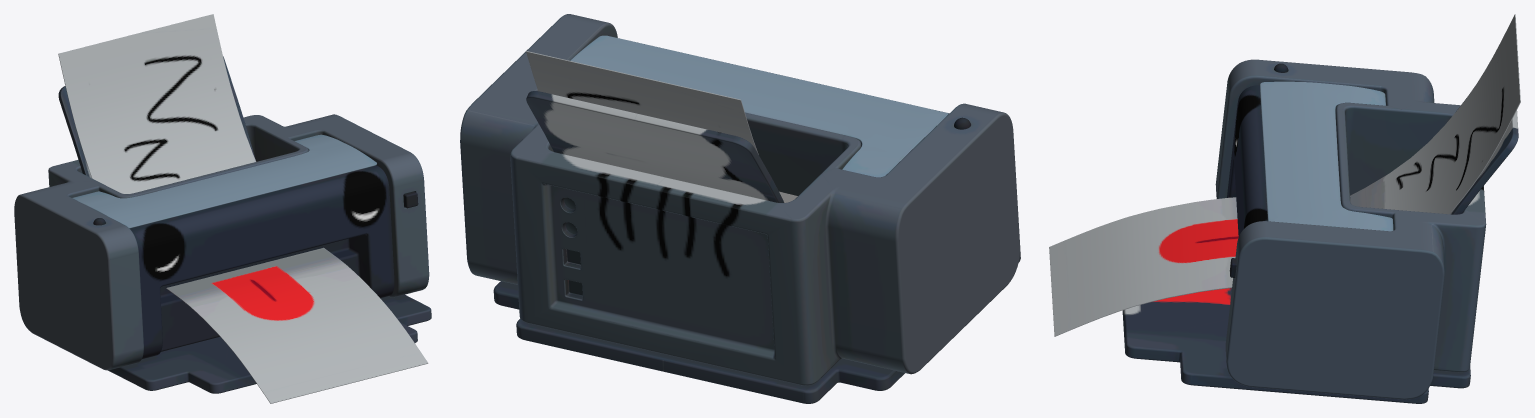
Rendered from sleepyPrinter.fbx.
3 renders of one model, left to right at view 1: azimuth 30°, elevation 25°; view 2: azimuth 150°, elevation 25°; view 3: azimuth 270°, elevation 25°, orthographic. The views are drawn at different scales.
Visible parts, largest first — view 1: node_id55; view 2: node_id55; view 3: node_id55.
Boxes of the visible parts, <box> form: node_id55: <box>14,14,431,403</box>; node_id55: <box>460,14,1020,403</box>; node_id55: <box>1049,14,1520,403</box>.
Bounding box in the file's own units: 0.5179 × 0.3623 × 0.5725.
Materials: 2 (2 with a texture image).
